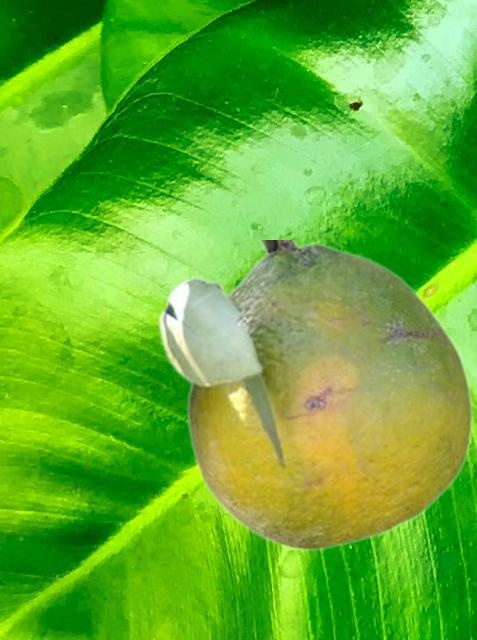dalandan: (156, 240, 473, 550)
